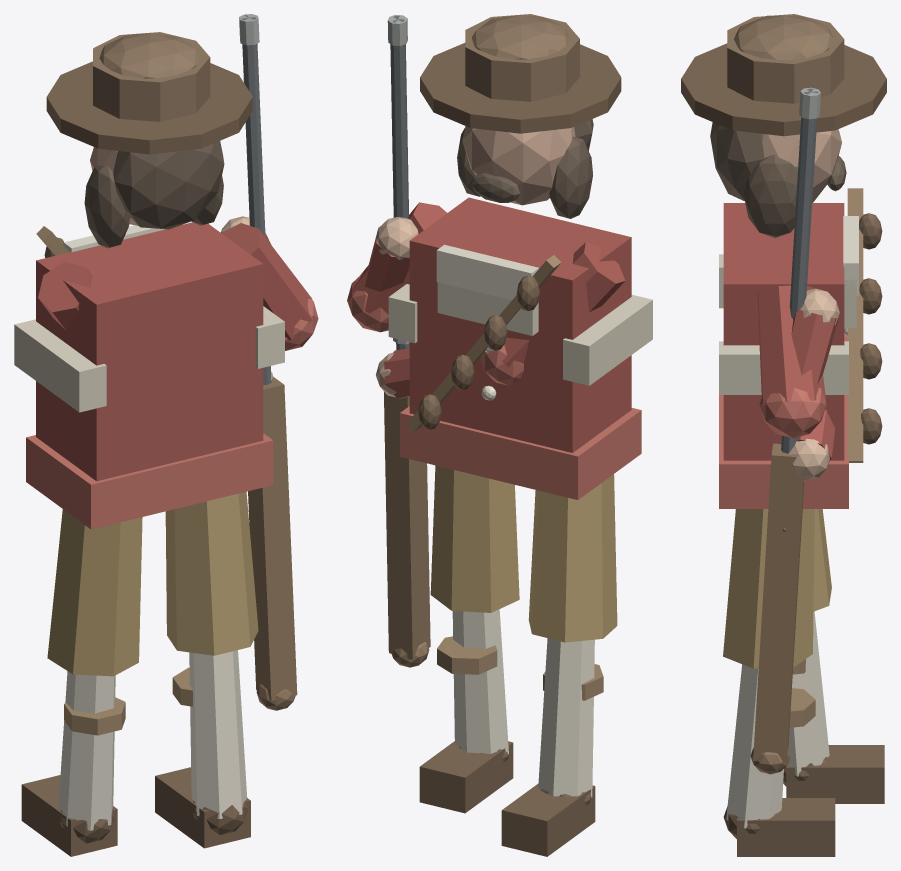
File: cameronian_rare_redcoat_infantryman.glb
The picture shows the model from 3 angles, left to right: view 1: azimuth 30°, elevation 25°; view 2: azimuth 150°, elevation 25°; view 3: azimuth 270°, elevation 25°; orthographic projection. The views are drawn at different scales.
Visible parts, largest first — view 1: redcoat, ochre, leather, linen_light, redcoat_lt, wood, hair, brown, linen, iron, leather_lt, steel; view 2: redcoat, ochre, leather, linen_light, redcoat_lt, wood, linen, brown, skin, hair, leather_lt, iron (+2 smaller); view 3: redcoat, leather, wood, ochre, brown, linen_light, redcoat_lt, hair, linen, leather_lt, iron, skin (+2 smaller).
Part boxes in pixels (x1,y1,x2,y2): redcoat: [36, 222, 312, 481]; ochre: [47, 491, 258, 676]; leather: [21, 61, 252, 856]; linen_light: [58, 225, 247, 830]; redcoat_lt: [26, 298, 318, 529]; wood: [248, 376, 297, 710]; hair: [84, 141, 224, 248]; brown: [93, 32, 210, 121]; linen: [14, 306, 284, 412]; iron: [241, 15, 271, 384]; leather_lt: [36, 226, 192, 735]; steel: [239, 14, 259, 45]; redcoat: [352, 197, 631, 452]; ochre: [430, 465, 617, 642]; leather: [418, 43, 621, 856]; linen_light: [436, 244, 594, 797]; redcoat_lt: [347, 272, 641, 499]; wood: [384, 392, 430, 667]; linen: [388, 282, 652, 385]; brown: [465, 14, 579, 101]; skin: [462, 126, 575, 205]; hair: [457, 119, 593, 218]; leather_lt: [406, 255, 603, 700]; iron: [390, 15, 409, 350]; redcoat: [723, 203, 844, 460]; leather: [681, 43, 886, 856]; wood: [750, 443, 804, 774]; ochre: [723, 509, 831, 668]; brown: [727, 14, 844, 103]; linen_light: [726, 216, 858, 828]; redcoat_lt: [719, 333, 848, 508]; hair: [710, 122, 846, 237]; linen: [719, 254, 856, 394]; leather_lt: [789, 188, 863, 727]; iron: [781, 88, 818, 531]; skin: [762, 129, 841, 202].
Size of the model in its own units: 0.6271 by 1.74 by 0.4094.
